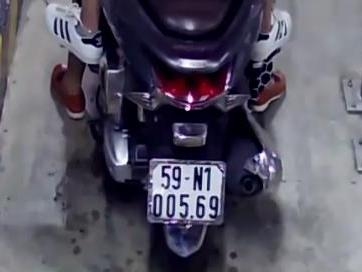num_plate: (149, 158, 225, 223)
